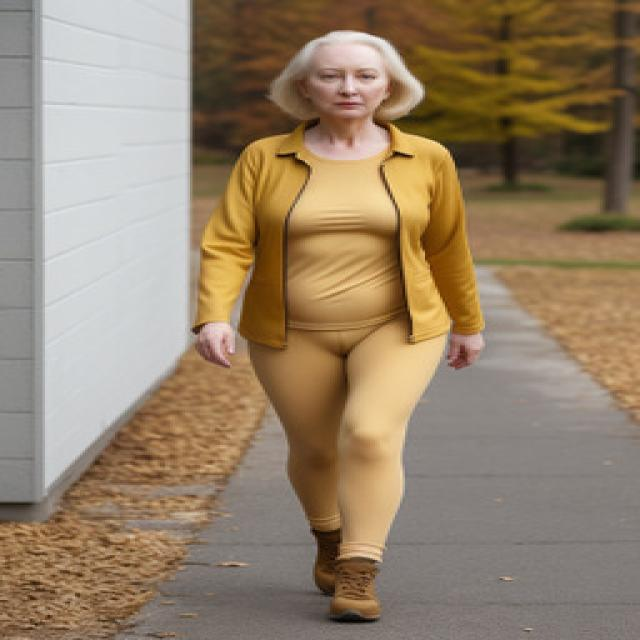Ai human 2: (178, 21, 494, 624)
